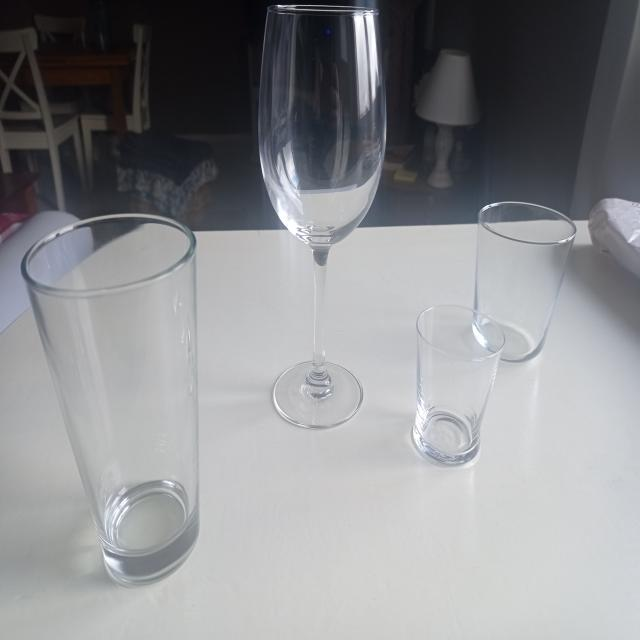Dry Waste: (18, 205, 209, 606), (262, 1, 388, 430), (473, 197, 573, 369), (412, 298, 505, 482)
